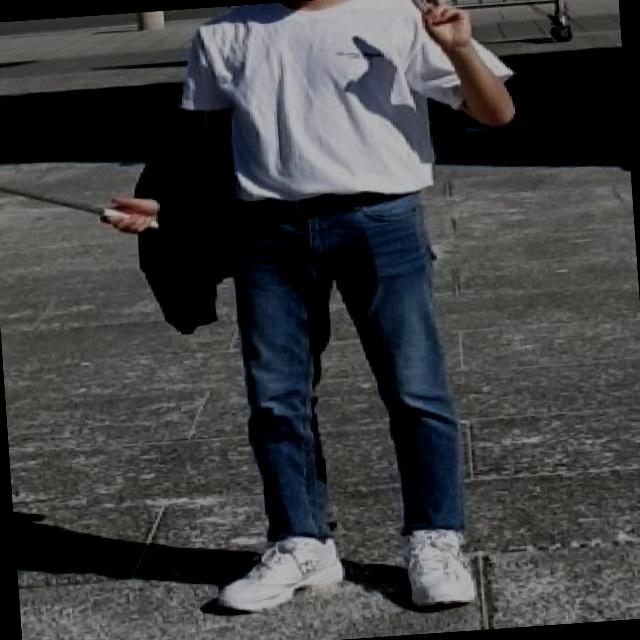denimpants: (227, 184, 463, 546)
shortsleeve: (175, 0, 517, 210)
